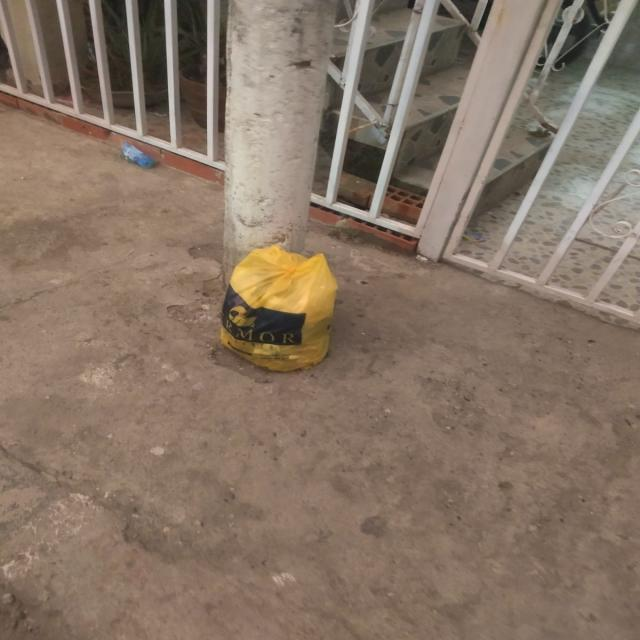Garbage_Bag: (213, 244, 344, 374)
